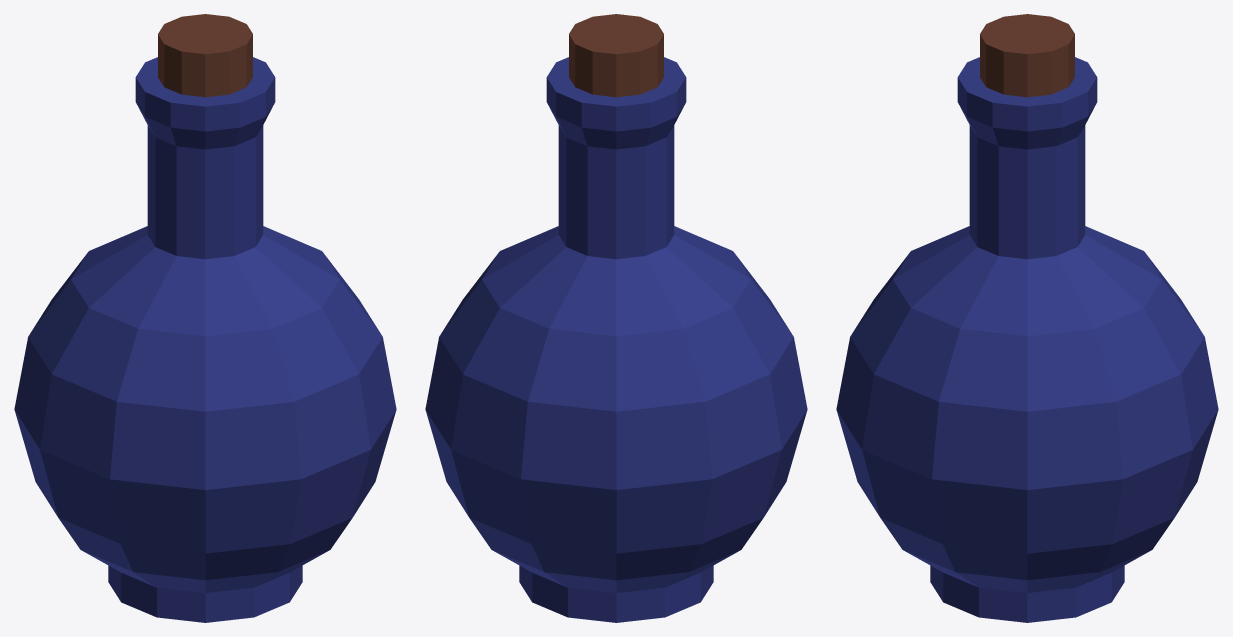
The model's file is elixir.fbx.
The picture shows the model from 3 angles, left to right: view 1: azimuth 30°, elevation 25°; view 2: azimuth 150°, elevation 25°; view 3: azimuth 270°, elevation 25°; orthographic projection.
Parts seen in each view (by area): view 1: Circle, Circle.001; view 2: Circle, Circle.001; view 3: Circle, Circle.001.
Boxes of the visible parts, x1,y1,x2,y2 form: Circle: (14, 57, 396, 622); Circle.001: (158, 14, 252, 97); Circle: (425, 57, 807, 622); Circle.001: (569, 14, 663, 97); Circle: (836, 57, 1218, 622); Circle.001: (980, 14, 1074, 97).
Bounding box in the file's own units: 237 × 375 × 237.
